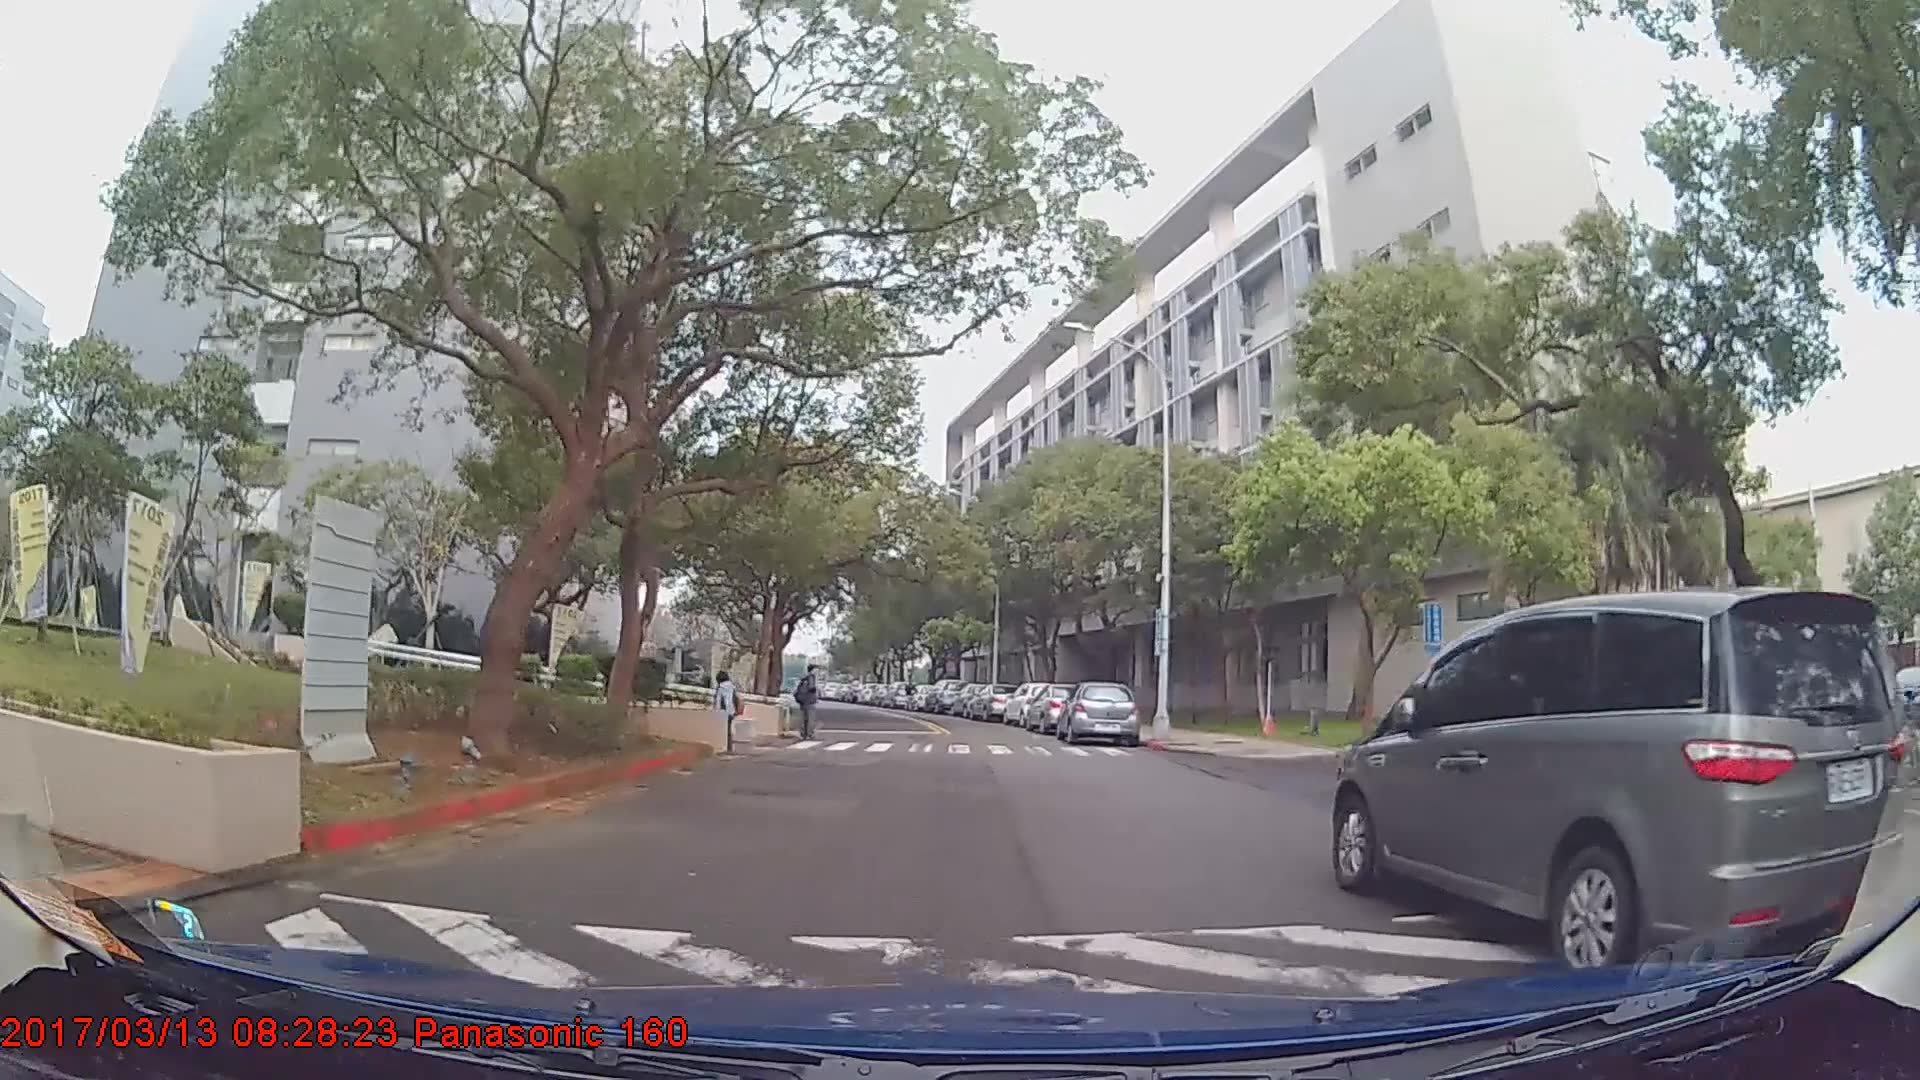pedestrian: (712, 672, 747, 752), (794, 661, 822, 744)
vehicle: (1333, 583, 1910, 984), (1058, 678, 1137, 744), (1019, 679, 1093, 731), (998, 677, 1061, 727), (966, 682, 1013, 719), (923, 676, 965, 711)
